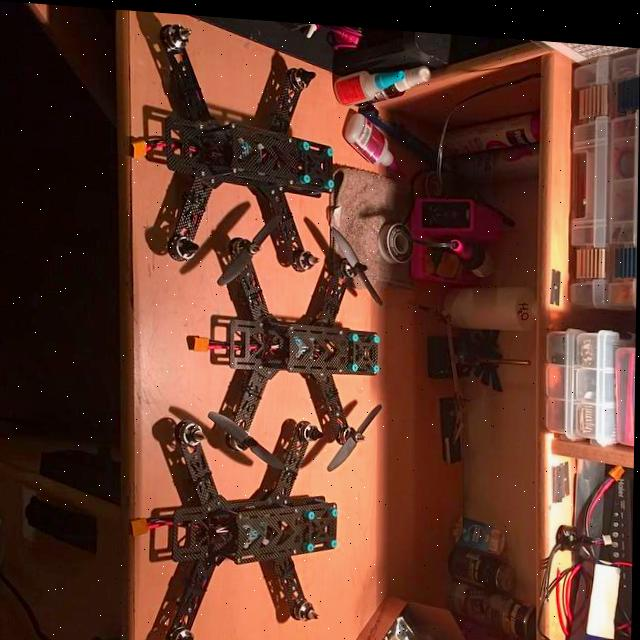drone: (210, 208, 391, 476), (149, 20, 332, 274), (152, 404, 333, 640)
